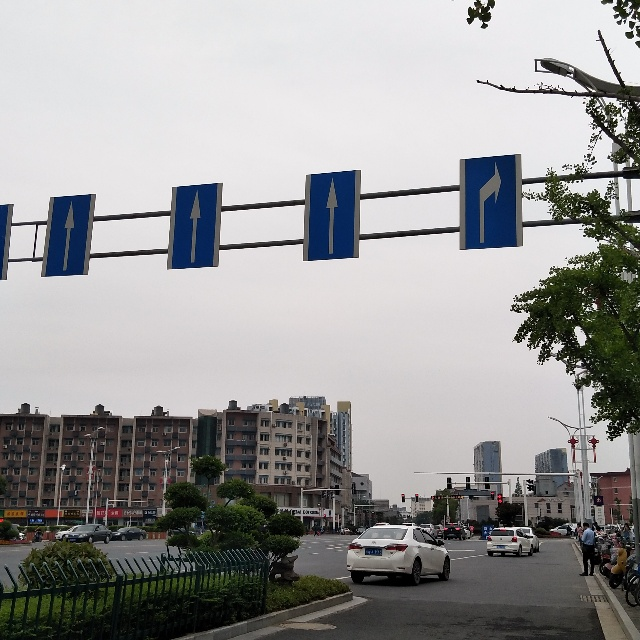right: (470, 162, 512, 244)
straight: (316, 173, 352, 258), (179, 191, 213, 265), (57, 190, 80, 270)
